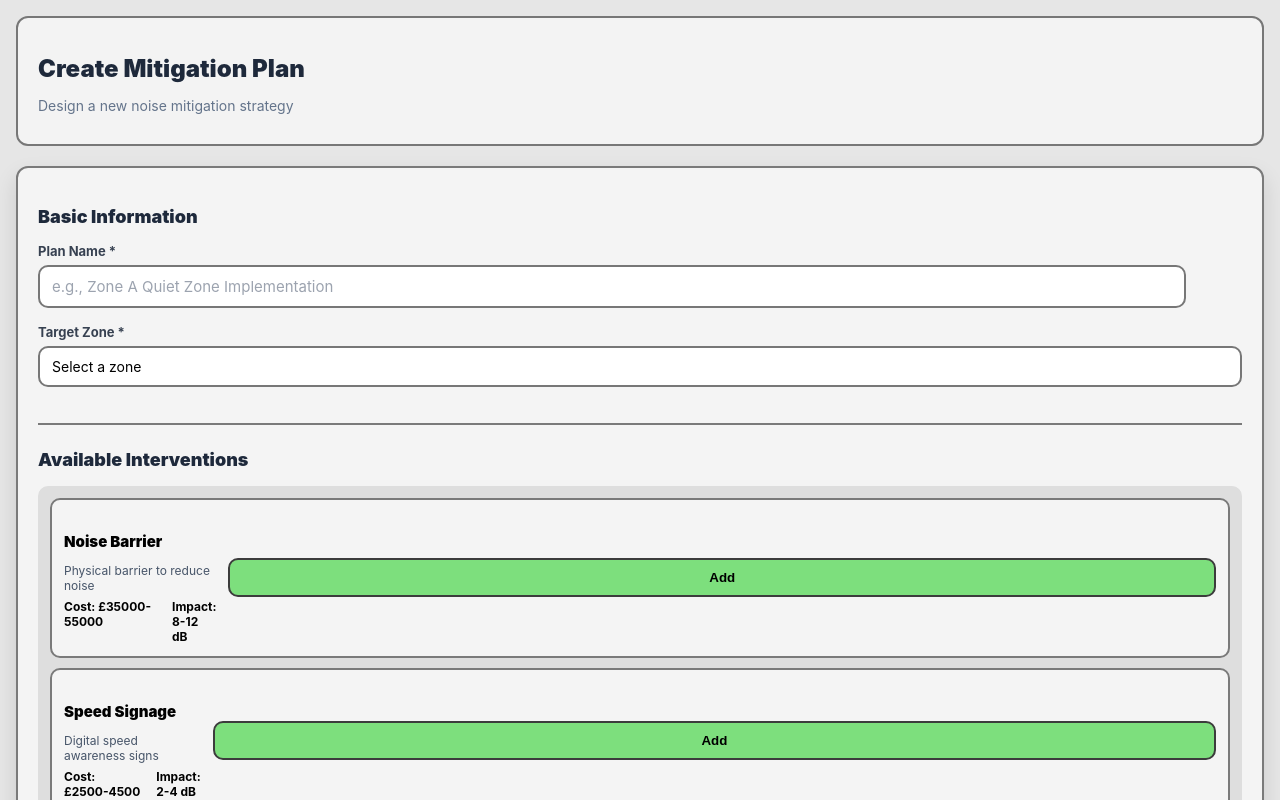
it: PlanBuilder › prevents adding the same intervention twice
What coordinates should you click on to do the following:
click the button "Add" next to "Physical barrier to reduce noise"
I would click on:
 (722, 578)
Its box is [228, 558, 1216, 597].
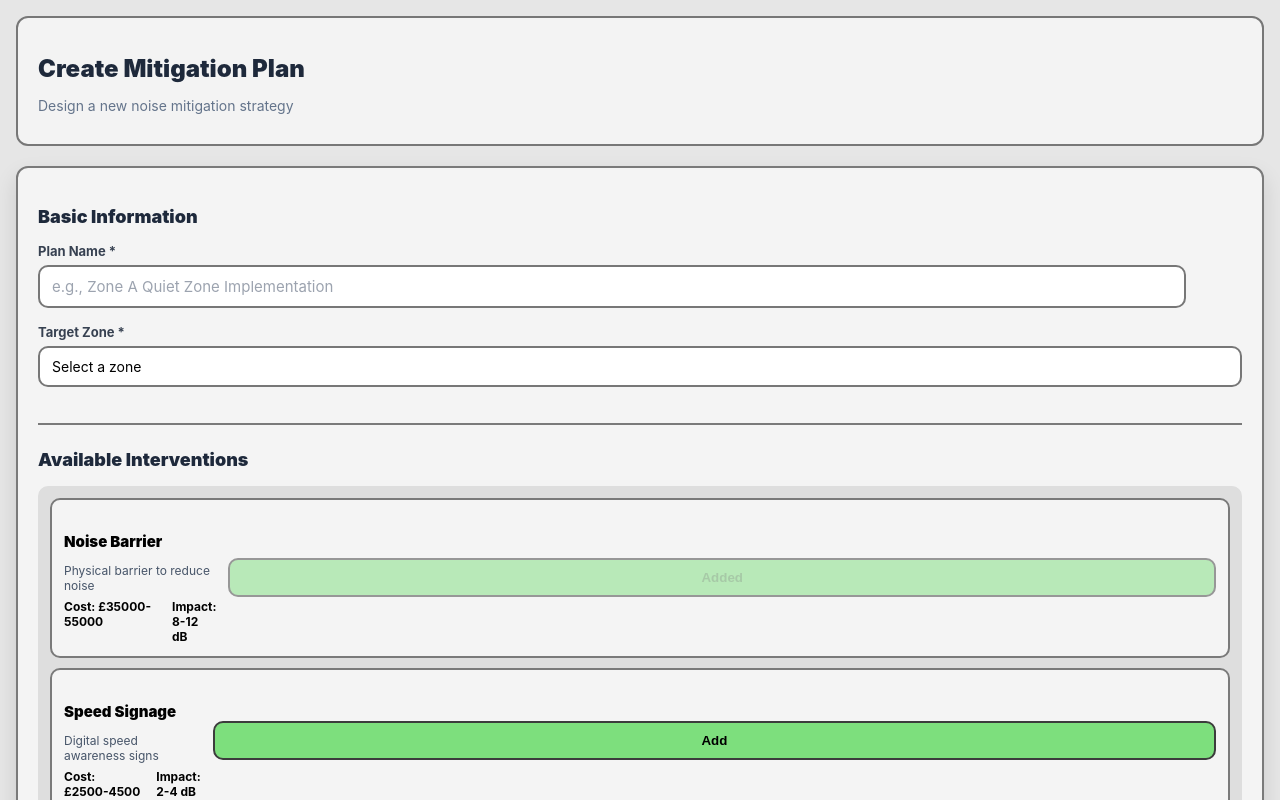
Result: the button "Added" is disabled at [228, 558, 1216, 597]
